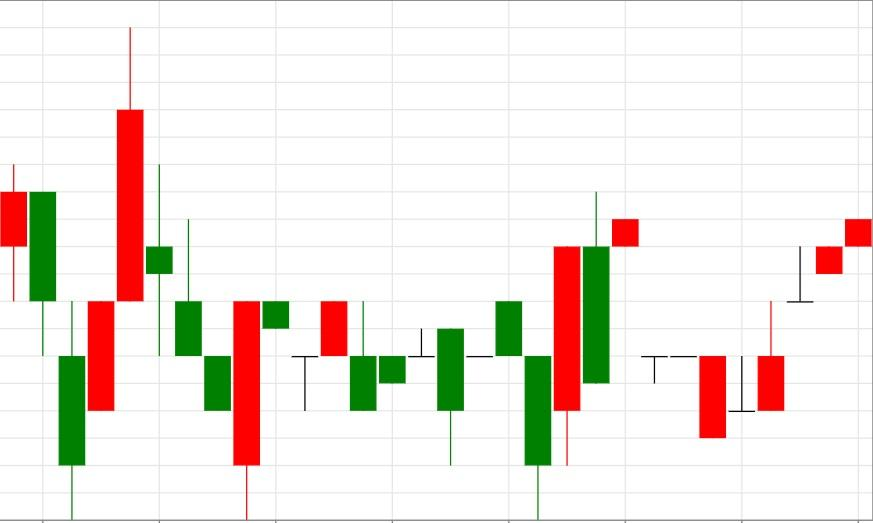bullish_engulfing_rise: (116, 26, 261, 520)
three_black_crows_fall: (58, 26, 232, 520)
